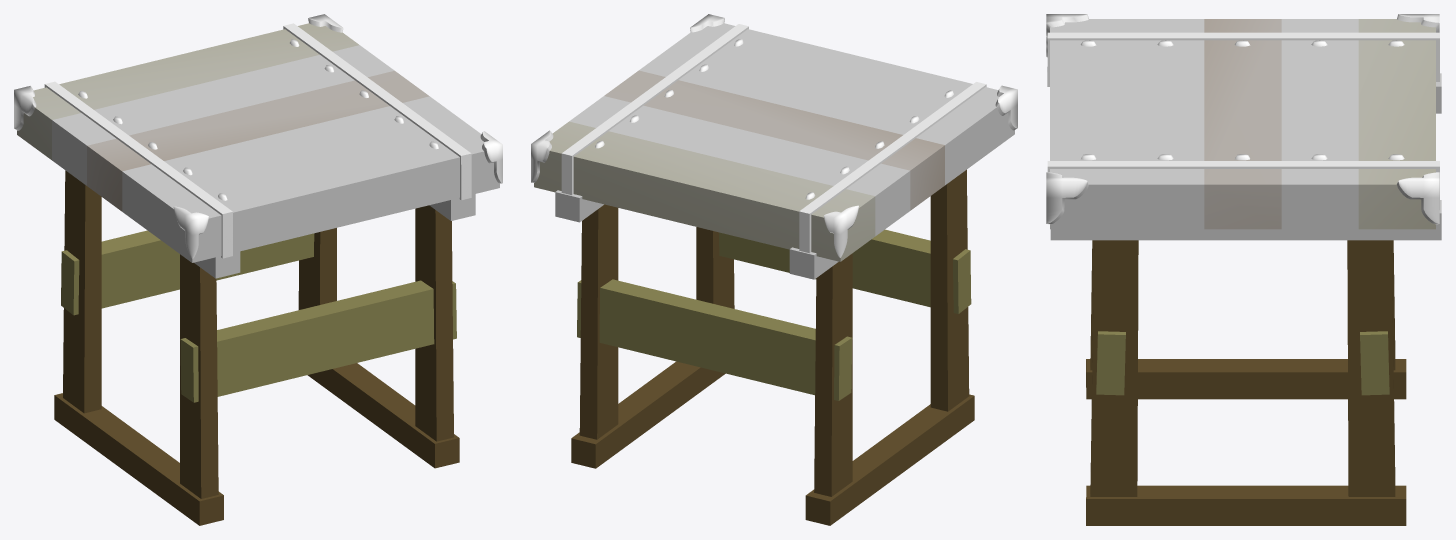
The model's file is workbench.glb.
3 views of the same model, side by side, from view 1: azimuth 30°, elevation 25°; view 2: azimuth 150°, elevation 25°; view 3: azimuth 270°, elevation 25° (orthographic). The views are drawn at different scales.
Visible parts, largest first — view 1: Workbench; view 2: Workbench; view 3: Workbench.
Part boxes in pixels (x1,y1,x2,y2): Workbench: (14,14,502,525); Workbench: (531,14,1017,525); Workbench: (1046,14,1441,525).
Size of the model in its own units: 1 by 1 by 1.
